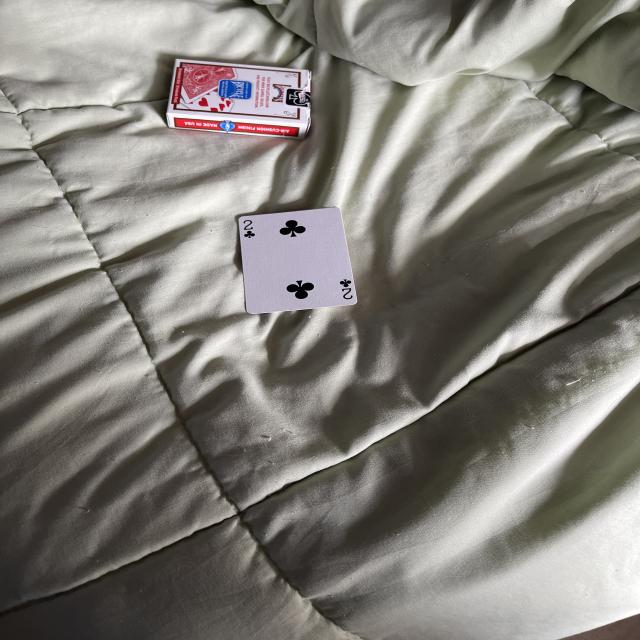2 of clubs: (235, 206, 358, 317)
